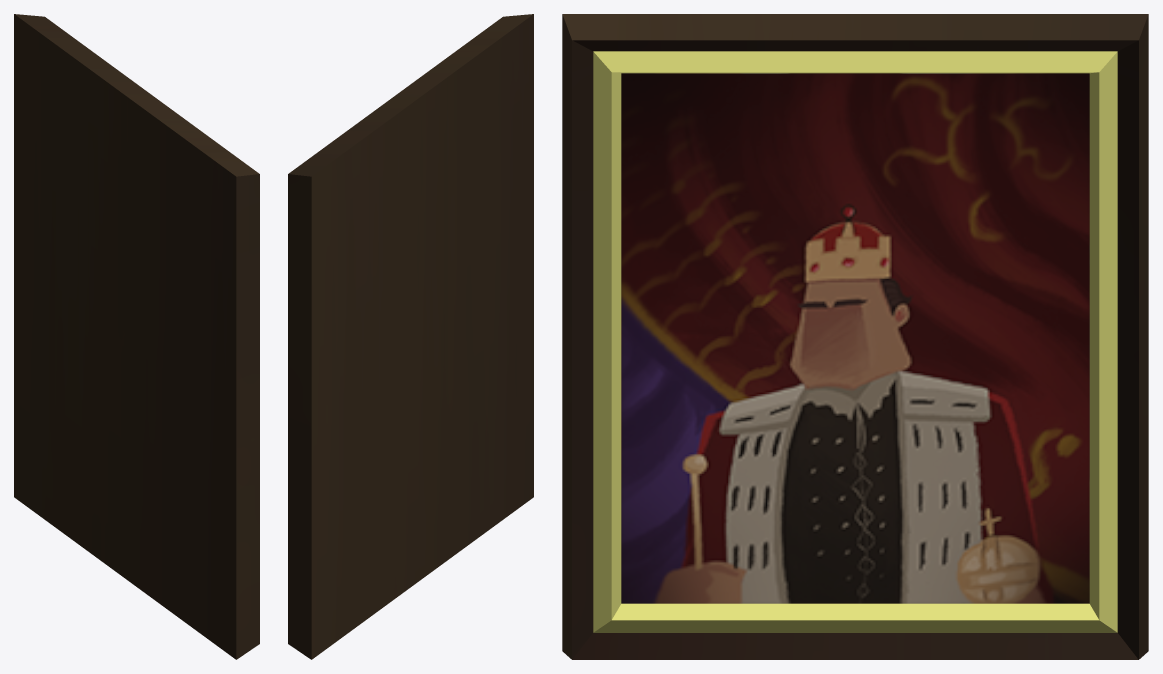
File: Paint4_TR.fbx
The picture shows the model from 3 angles, left to right: view 1: azimuth 30°, elevation 25°; view 2: azimuth 150°, elevation 25°; view 3: azimuth 270°, elevation 25°; orthographic projection. The views are drawn at different scales.
Parts seen in each view (by area): view 1: Paint4_TR; view 2: Paint4_TR; view 3: Paint4_TR.
Part boxes in pixels (left/top/right/bottom): Paint4_TR: left=14, top=14, right=259, bottom=659; Paint4_TR: left=288, top=14, right=533, bottom=659; Paint4_TR: left=562, top=14, right=1148, bottom=659.
Bounding box in the file's own units: 0.2376 × 4.04 × 3.37.
